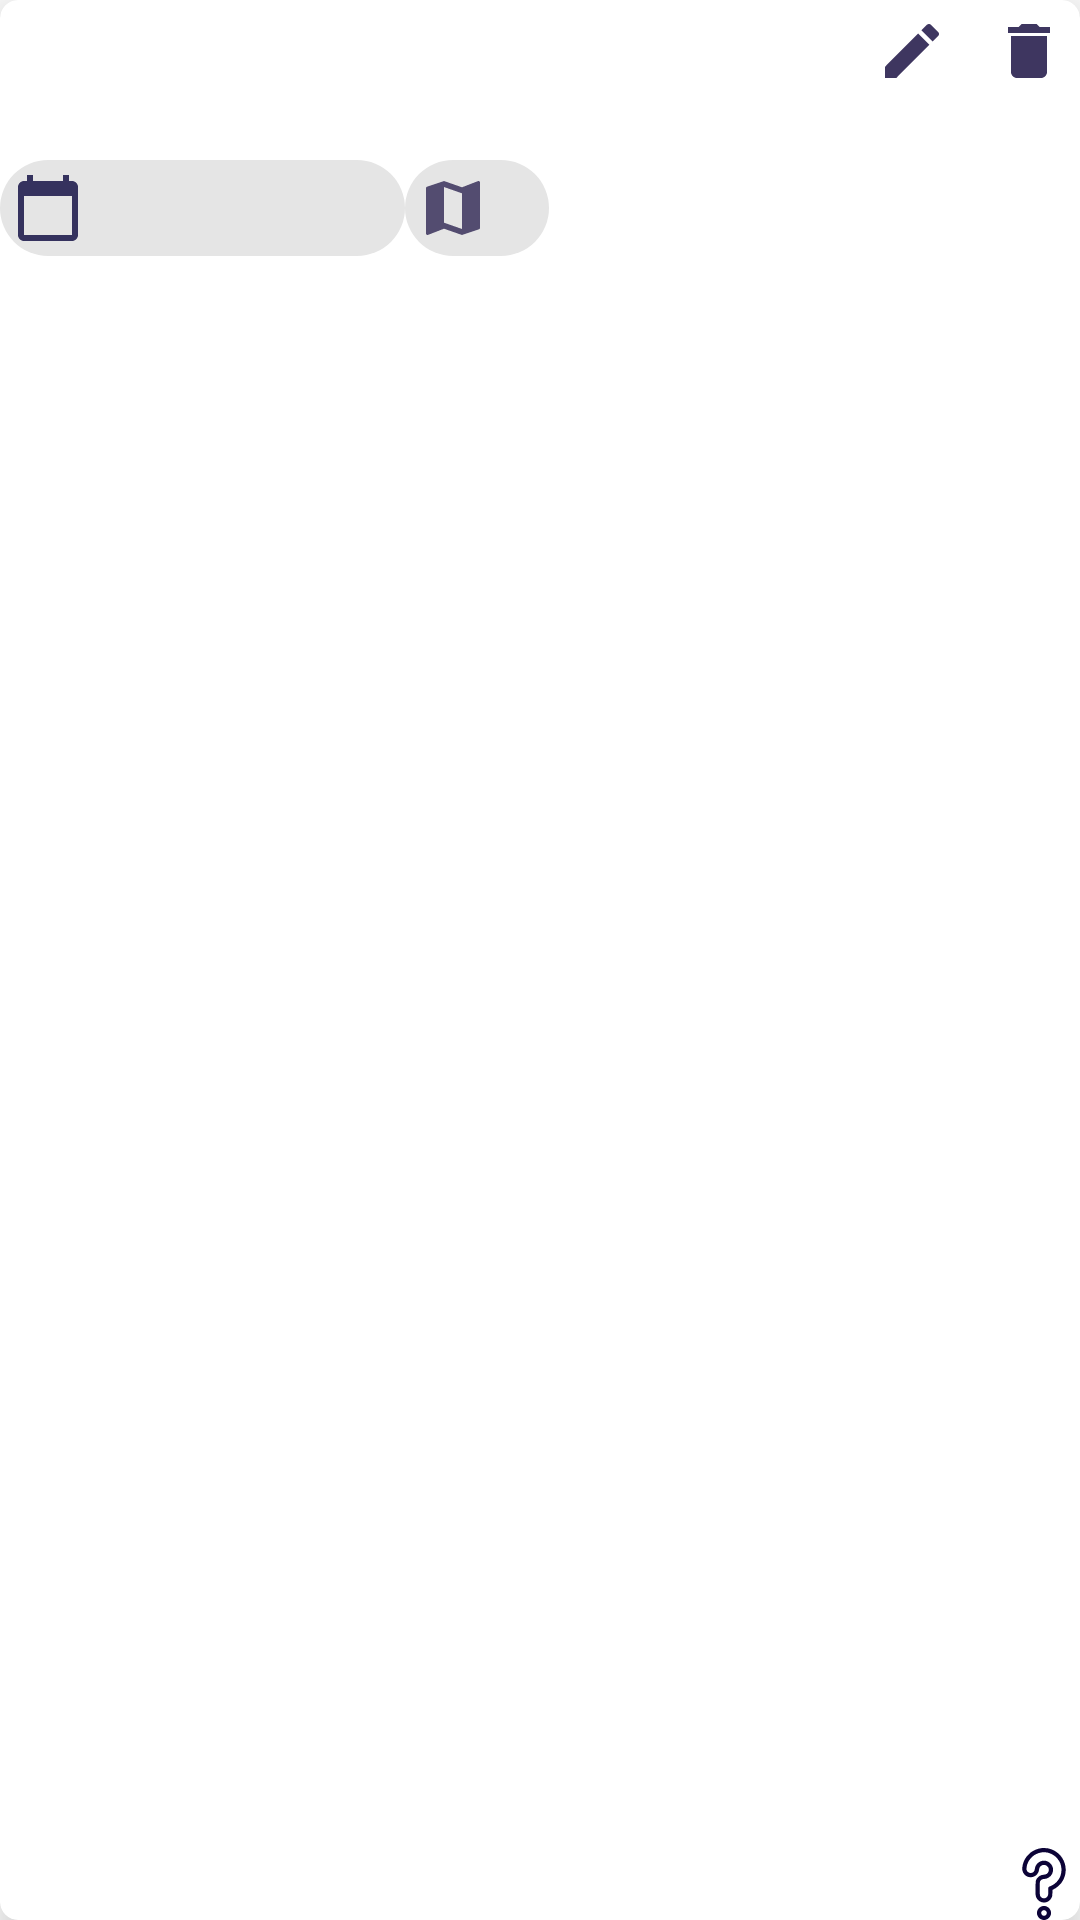

Screen size 1080px×1920px. Icon name, then its center in pixels as point (x, y):
delete: point (1029, 51)
edit: point (912, 51)
questionmark: point (1051, 1884)
